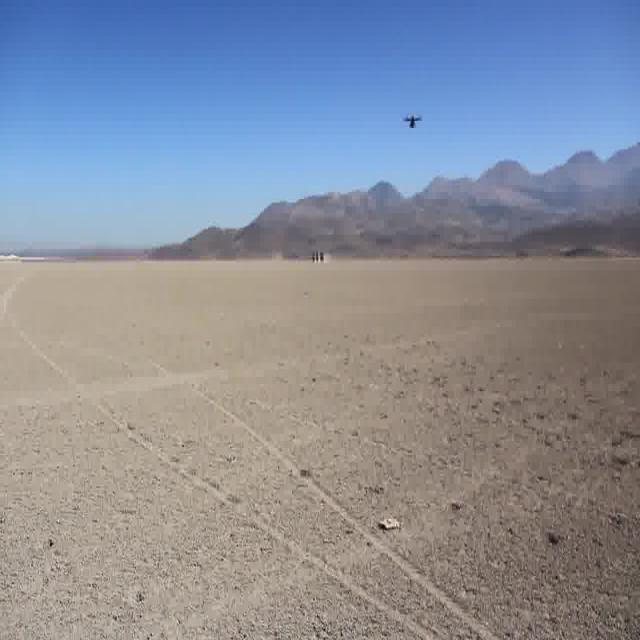drone: (390, 83, 432, 145)
